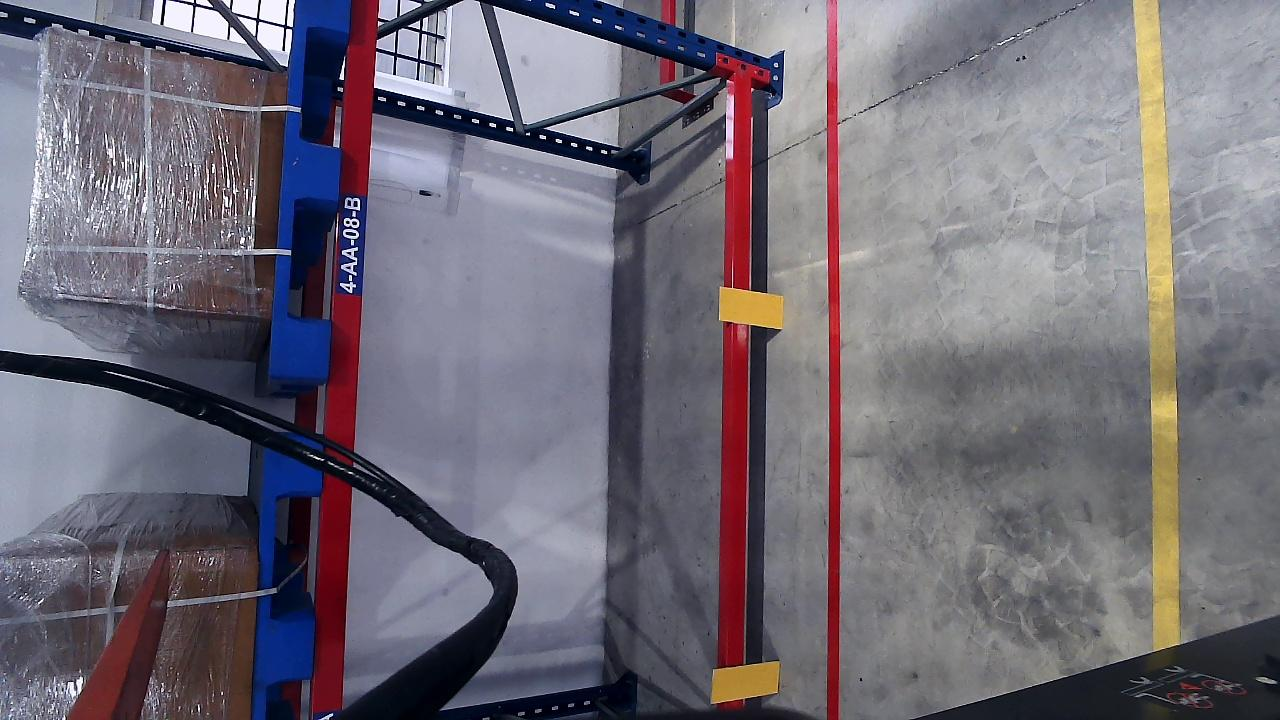h_rack: (317, 0, 381, 720), (725, 76, 758, 663)
orange_strip: (711, 660, 780, 702), (719, 285, 784, 328)
red_line: (822, 0, 844, 720)
small_pallet: (269, 0, 357, 382), (252, 437, 324, 720)
yellow_line: (1135, 0, 1181, 641)
